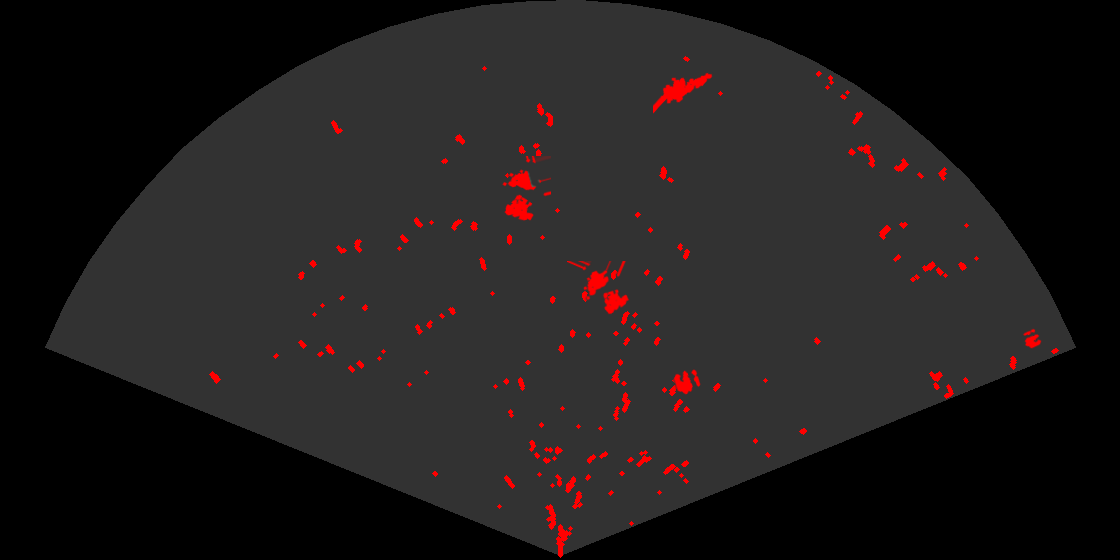ball: (672, 368, 702, 396), (1021, 327, 1043, 350)
cage: (567, 261, 631, 316), (501, 156, 551, 222)
frogman: (653, 71, 714, 115)
